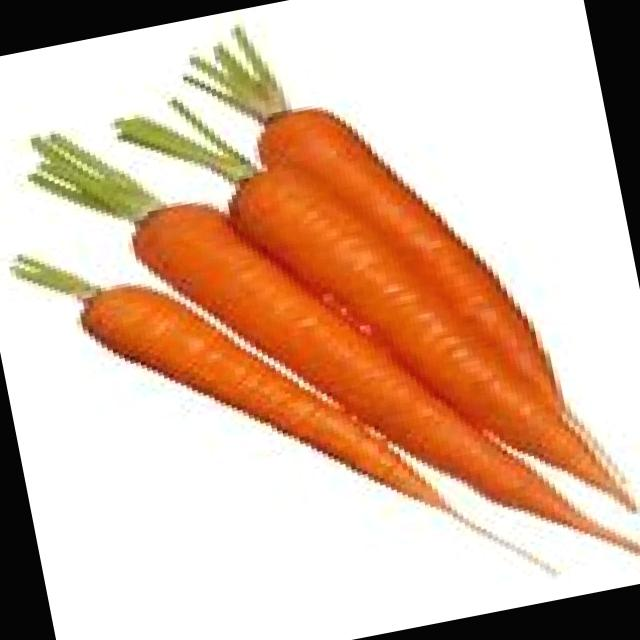carrot: (132, 200, 591, 525), (236, 168, 626, 493), (79, 276, 448, 509)
